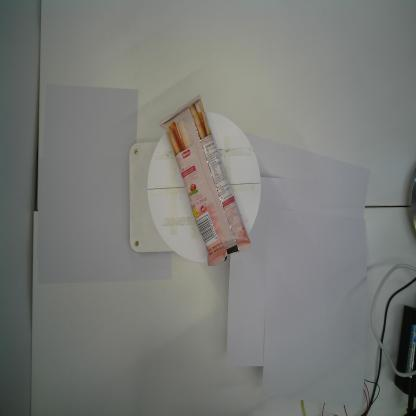Dessert: (157, 90, 253, 270)
